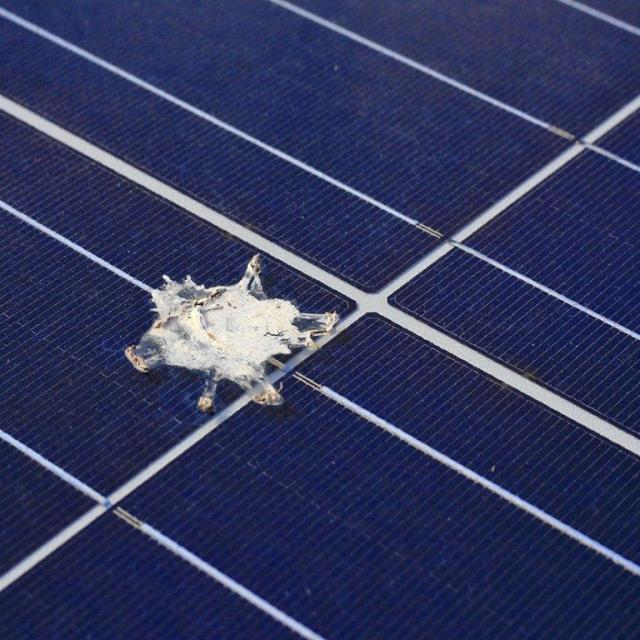soiled: (1, 117, 425, 531)
